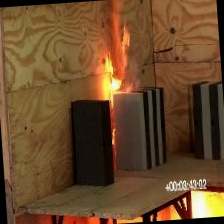fire: (93, 22, 137, 131)
